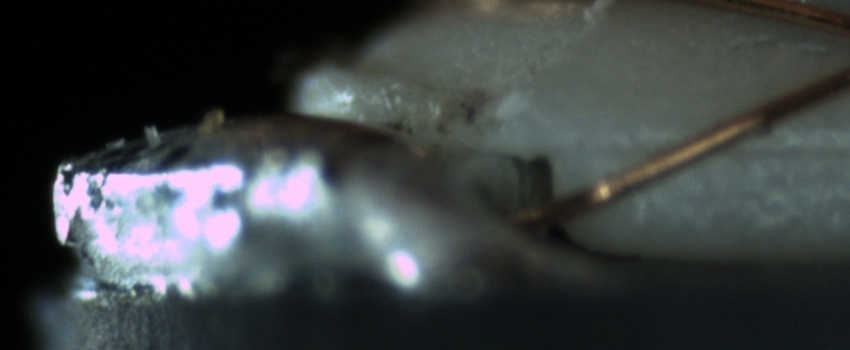DL: (604, 112, 850, 181)
